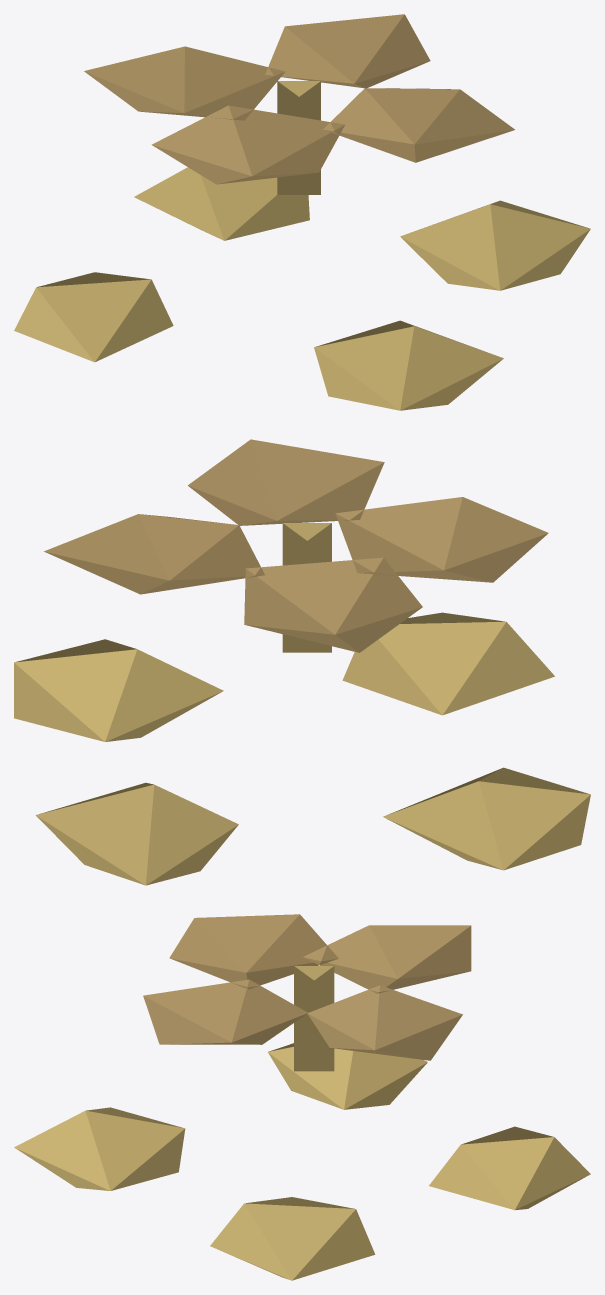
File: cao.dixue@fruiting__autumn.glb
3 views of the same model, one above another, from view 1: azimuth 30°, elevation 25°; view 2: azimuth 150°, elevation 25°; view 3: azimuth 270°, elevation 25° (orthographic). The views are drawn at different scales.
Parts seen in each view (by area): view 1: cao.dixue@fruiting__autumn; view 2: cao.dixue@fruiting__autumn; view 3: cao.dixue@fruiting__autumn.
Boxes of the visible parts, <box> form: cao.dixue@fruiting__autumn: <box>14,14,590,410</box>; cao.dixue@fruiting__autumn: <box>14,439,590,885</box>; cao.dixue@fruiting__autumn: <box>14,914,590,1280</box>.
Size of the model in its own units: 0.8892 by 0.4032 by 0.8919.
